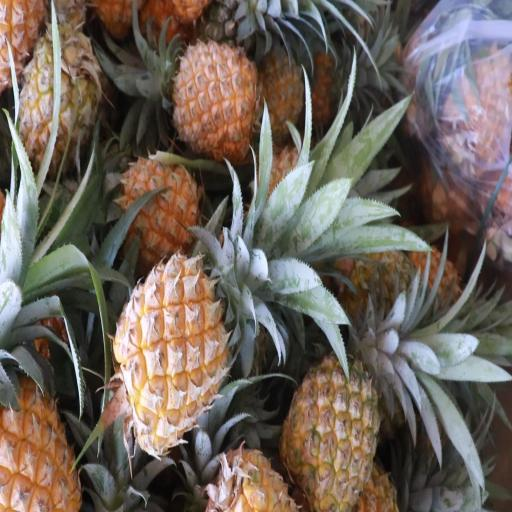------------------------------: (285, 349, 377, 508), (15, 34, 96, 182)
Pineapple - v8 v1: (111, 263, 226, 445), (0, 377, 79, 512), (174, 42, 259, 154), (118, 154, 200, 268)
